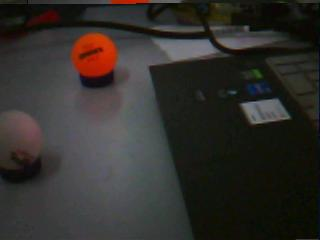oball: (72, 33, 118, 77)
